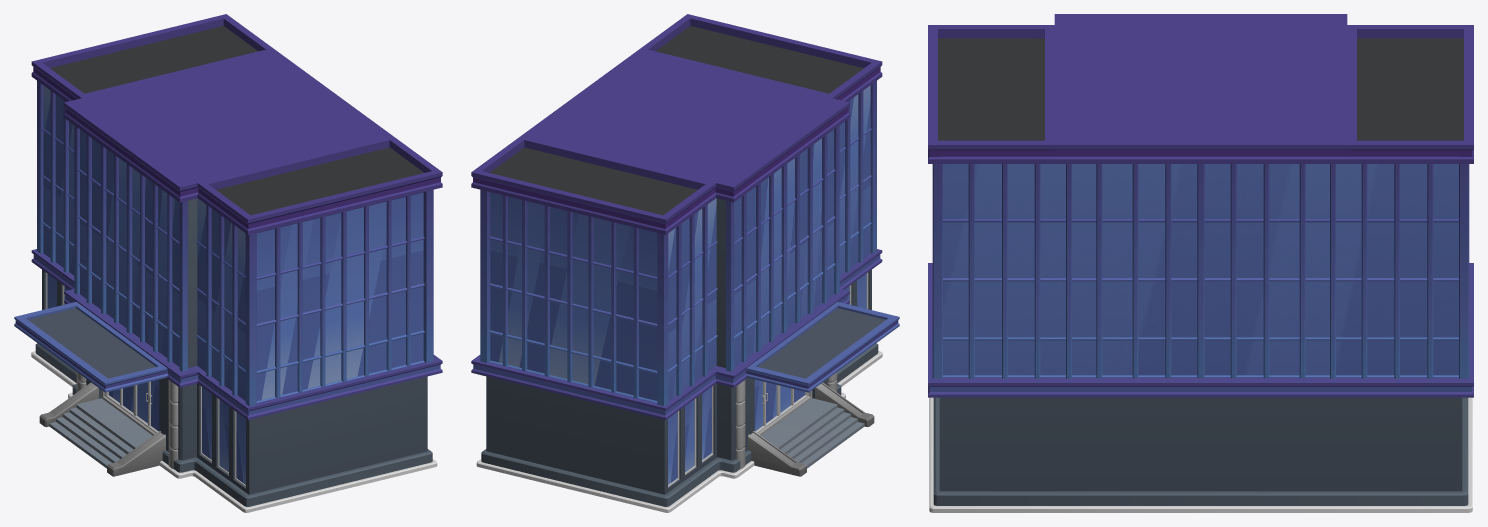
The model's file is Building_17_1_K.fbx.
3 renders of one model, left to right at view 1: azimuth 30°, elevation 25°; view 2: azimuth 150°, elevation 25°; view 3: azimuth 270°, elevation 25°, orthographic. The views are drawn at different scales.
Parts seen in each view (by area): view 1: Building_17_1_K; view 2: Building_17_1_K; view 3: Building_17_1_K.
Boxes of the visible parts, x1=… form: Building_17_1_K: x1=14, y1=14, x2=442, y2=512; Building_17_1_K: x1=471, y1=14, x2=899, y2=512; Building_17_1_K: x1=928, y1=14, x2=1473, y2=512.
Size of the model in its own units: 857 by 875 by 1168.
